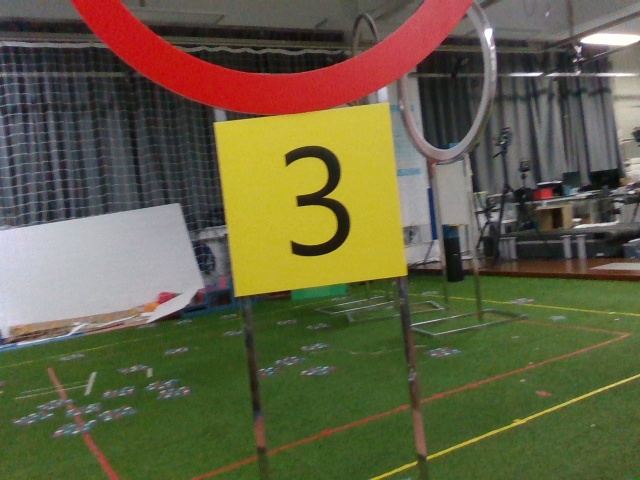target: (217, 118, 395, 276)
